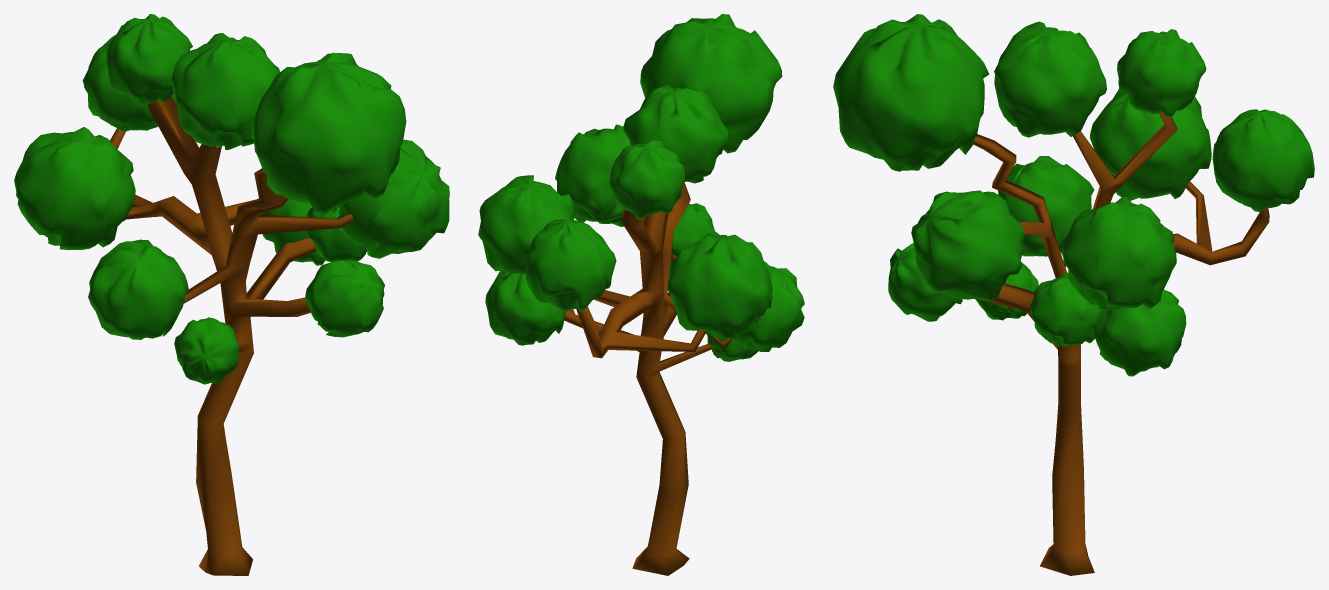
The model's file is Tree.fbx.
3 renders of one model, left to right at view 1: azimuth 30°, elevation 25°; view 2: azimuth 150°, elevation 25°; view 3: azimuth 270°, elevation 25°, orthographic. The views are drawn at different scales.
Parts seen in each view (by area): view 1: Trunk, Leaves6, Leaves5, Leaves1, Leaves7, Leaves8, Leaves, Leaves10, Leaves9, Leaves2, Leaves3; view 2: Trunk, Leaves6, Leaves5, Leaves1, Leaves4, Leaves7, Leaves, Leaves3, Leaves8, Leaves10, Leaves9; view 3: Trunk, Leaves6, Leaves4, Leaves7, Leaves1, Leaves5, Leaves, Leaves3, Leaves8, Leaves2, Leaves10, Leaves9.
Part boxes in pixels (x1,y1,x2,y2): Trunk: [82, 34, 353, 575]; Leaves6: [251, 52, 406, 214]; Leaves5: [14, 127, 135, 249]; Leaves1: [171, 33, 279, 149]; Leaves7: [337, 139, 449, 258]; Leaves8: [88, 239, 188, 339]; Leaves: [106, 14, 192, 104]; Leaves10: [305, 259, 384, 337]; Leaves9: [174, 317, 239, 384]; Leaves2: [306, 206, 366, 261]; Leaves3: [261, 199, 325, 265]; Trunk: [525, 182, 732, 575]; Leaves6: [640, 14, 782, 153]; Leaves5: [666, 232, 772, 339]; Leaves1: [623, 85, 728, 183]; Leaves4: [478, 175, 574, 273]; Leaves7: [555, 124, 630, 226]; Leaves: [609, 139, 684, 219]; Leaves3: [485, 270, 566, 345]; Leaves8: [729, 261, 804, 351]; Leaves10: [670, 203, 715, 264]; Leaves9: [707, 335, 758, 361]; Trunk: [973, 109, 1314, 575]; Leaves6: [833, 14, 989, 171]; Leaves4: [1061, 196, 1176, 310]; Leaves7: [911, 190, 1025, 301]; Leaves1: [994, 21, 1106, 137]; Leaves5: [1089, 89, 1211, 200]; Leaves: [1117, 29, 1206, 117]; Leaves3: [1094, 290, 1186, 376]; Leaves8: [998, 156, 1094, 256]; Leaves2: [1030, 272, 1101, 346]; Leaves10: [888, 243, 962, 321]; Leaves9: [975, 262, 1038, 320].
Size of the model in its own units: 3430 by 5444 by 4289.
